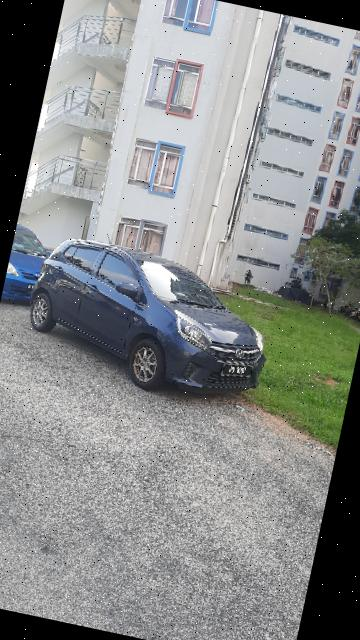License_Plate: (217, 359, 255, 383)
car: (18, 229, 289, 415), (1, 208, 71, 316)
